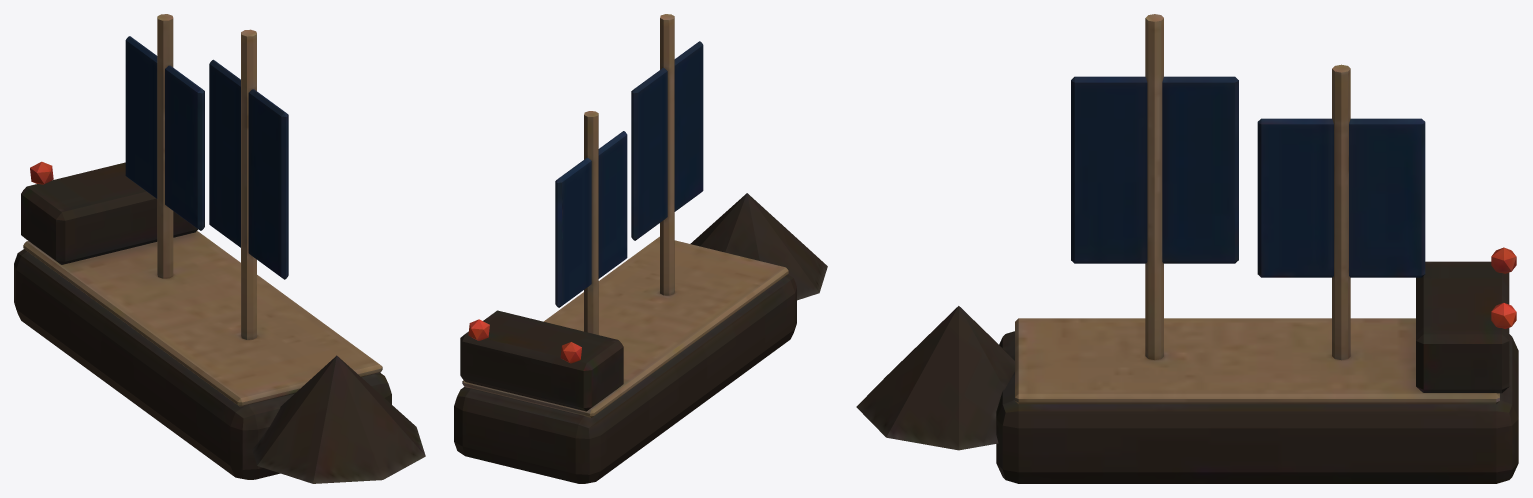
Rendered from night-galleon.glb.
3 renders of one model, left to right at view 1: azimuth 30°, elevation 25°; view 2: azimuth 150°, elevation 25°; view 3: azimuth 270°, elevation 25°, orthographic. The views are drawn at different scales.
Parts seen in each view (by area): view 1: night-galleon; view 2: night-galleon; view 3: night-galleon.
Part boxes in pixels (left/top/right/bottom): night-galleon: left=14, top=14, right=425, bottom=483; night-galleon: left=454, top=14, right=827, bottom=483; night-galleon: left=856, top=14, right=1518, bottom=483.
Bounding box in the file's own units: 1.1 × 2.55 × 3.55.
1 material, 1 textured.
